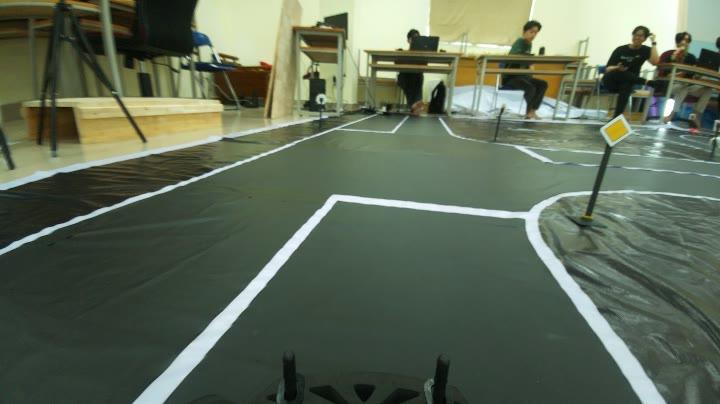priority: (594, 110, 634, 151)
